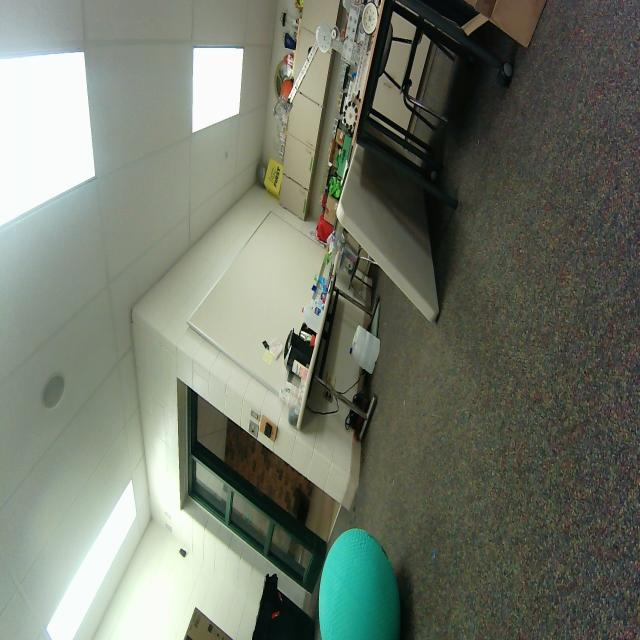algae: (315, 518, 404, 640)
